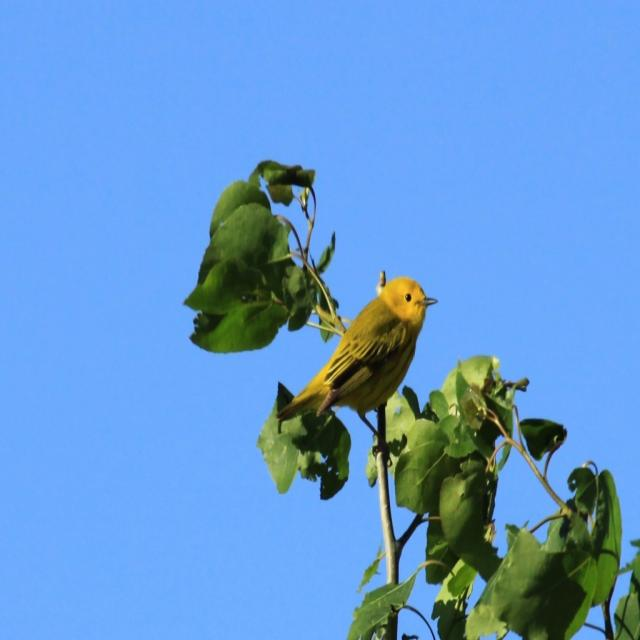bird: (319, 270, 441, 433)
